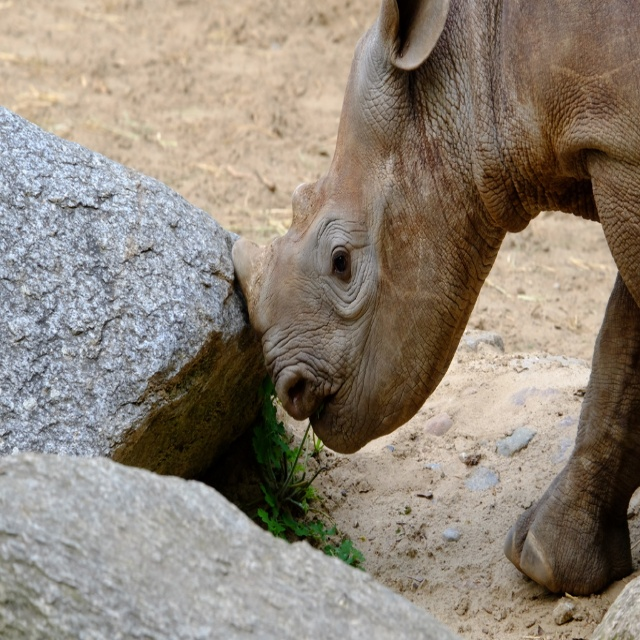Rhinoceros: (228, 0, 640, 599)
